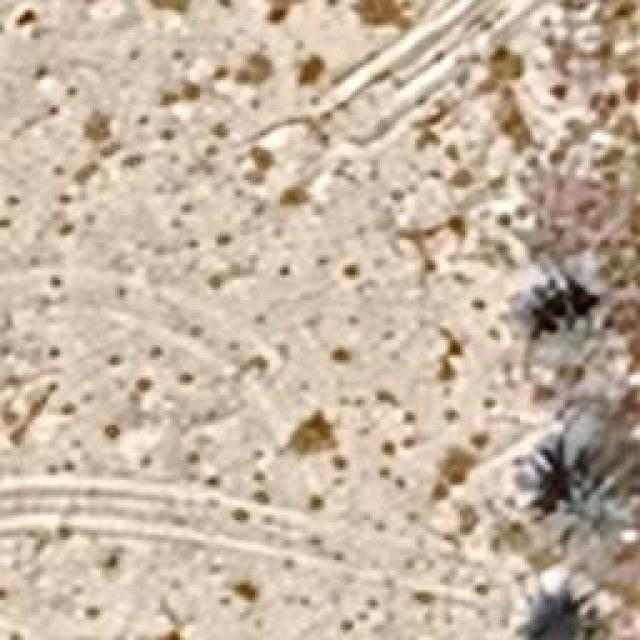PalmTree: (527, 432, 635, 550), (518, 268, 602, 372), (512, 585, 638, 640)
